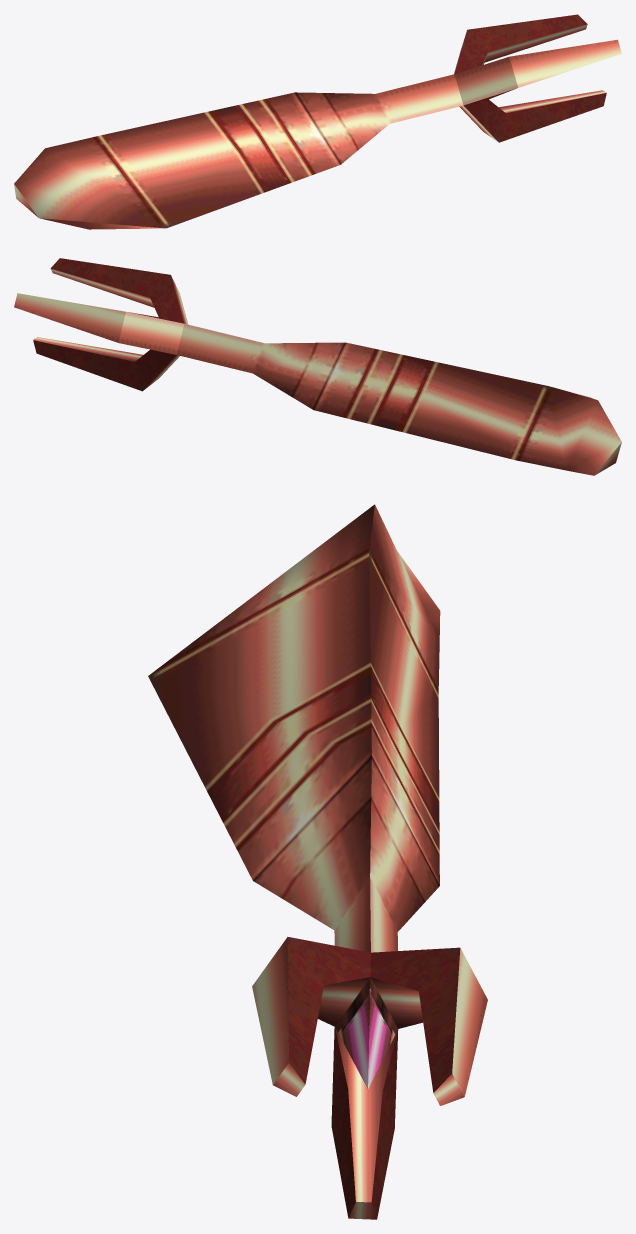
3 views of the same model, one above another, from view 1: azimuth 30°, elevation 25°; view 2: azimuth 150°, elevation 25°; view 3: azimuth 270°, elevation 25° (orthographic). The views are drawn at different scales.
Parts seen in each view (by area): view 1: BW205; view 2: BW205; view 3: BW205.
Boxes of the visible parts, x1,y1,x2,y2 form: BW205: (14,14,621,229); BW205: (14,258,621,475); BW205: (148,504,487,1219).
Bounding box in the file's own units: 15.53 × 2.45 × 3.91.
Materials: 1 (1 with a texture image).
